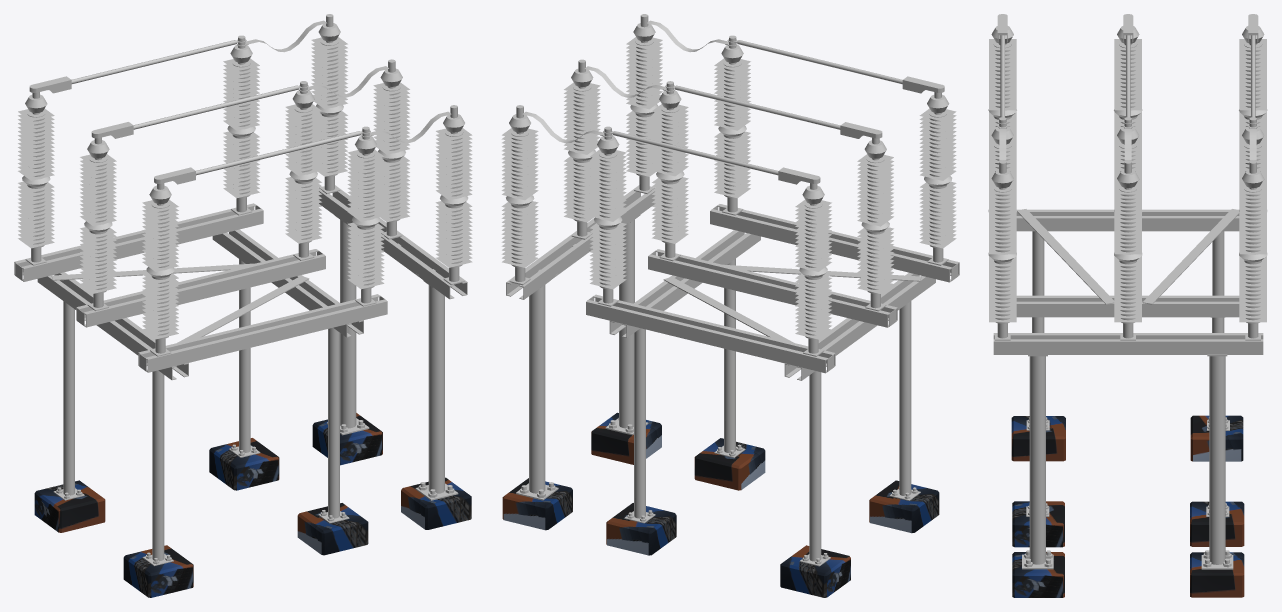
File: generator_4.FBX
3 renders of one model, left to right at view 1: azimuth 30°, elevation 25°; view 2: azimuth 150°, elevation 25°; view 3: azimuth 270°, elevation 25°, orthographic.
Visible parts, largest first — view 1: Generator_4_LOD0; view 2: Generator_4_LOD0; view 3: Generator_4_LOD0.
Boxes of the visible parts, left/top/right/bottom form: Generator_4_LOD0: left=14, top=14, right=472, bottom=597; Generator_4_LOD0: left=501, top=14, right=959, bottom=597; Generator_4_LOD0: left=988, top=14, right=1267, bottom=597.
Size of what is drawn, in the model's own units: 351 by 424 by 252.
